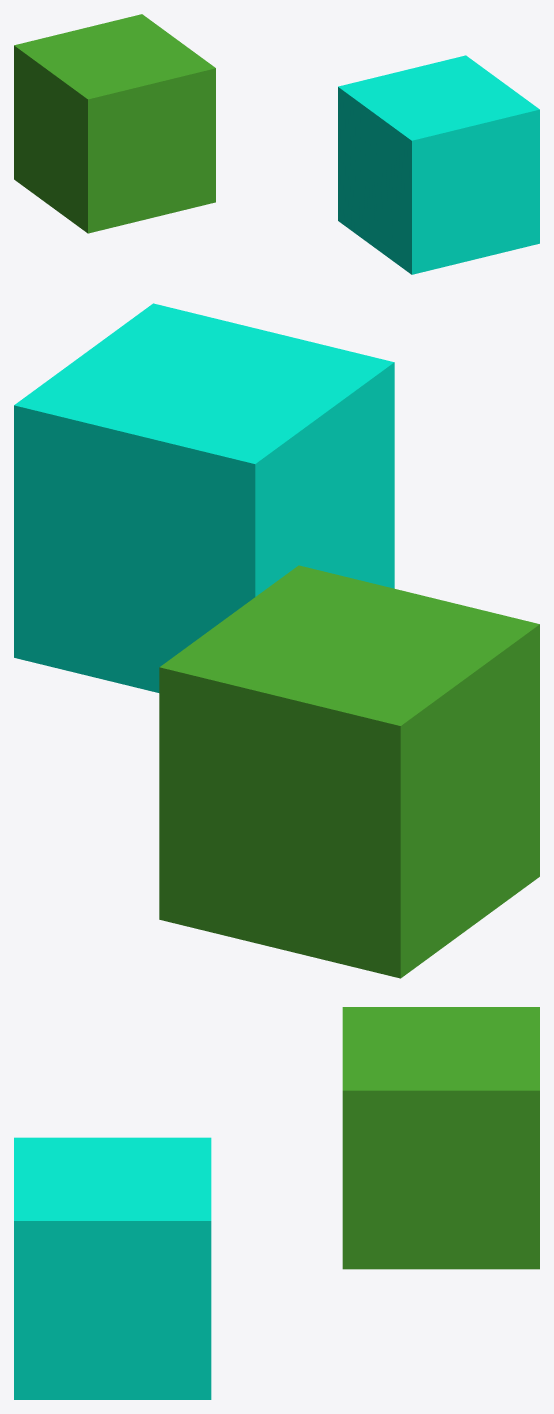
The picture shows the model from 3 angles, top to bottom: view 1: azimuth 30°, elevation 25°; view 2: azimuth 150°, elevation 25°; view 3: azimuth 270°, elevation 25°; orthographic projection. The views are drawn at different scales.
Bounding box in the file's own units: 0.0128 × 0.005 × 0.0133.
